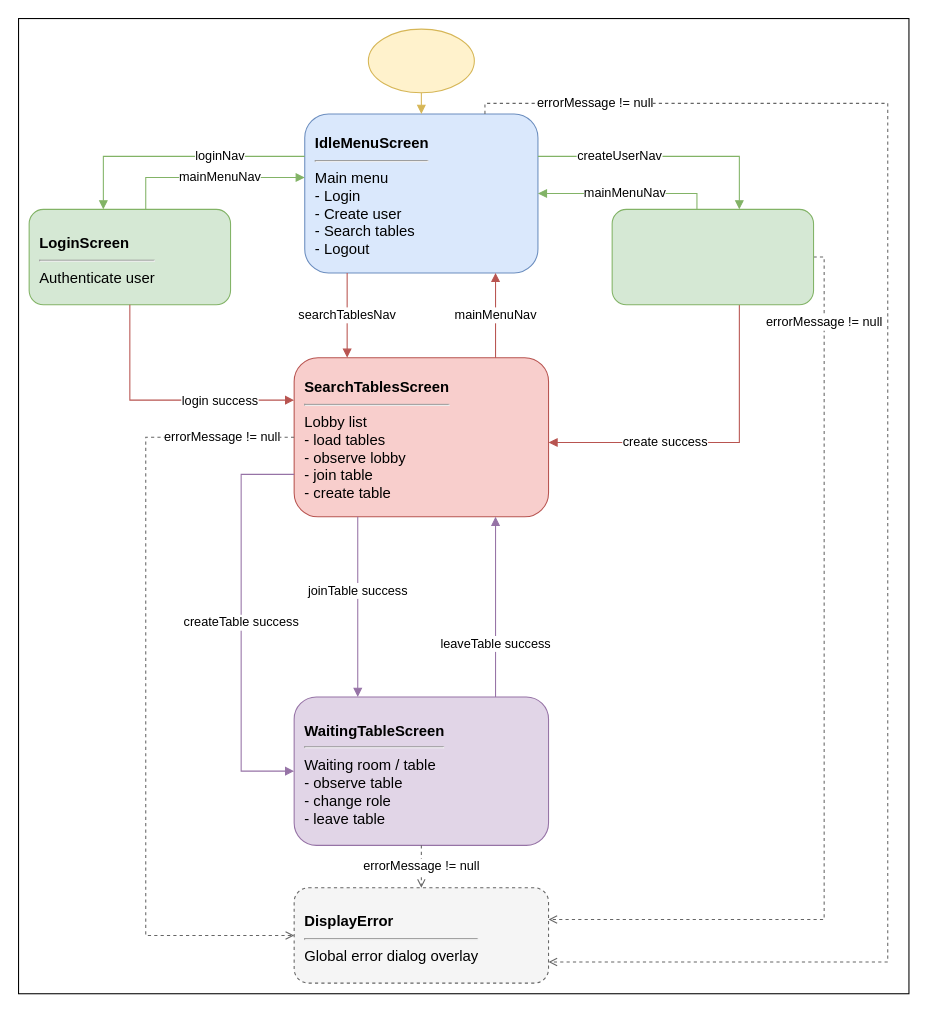
Some shapes in this 927 by 1012 pixel diagram are drawn without their labels. Here are the shapes that lost their labels. From the top down, the centre of each, then its label:
At (x=420, y=60): "Start".
At (x=712, y=256): "CreateUserScreen Register new user".
